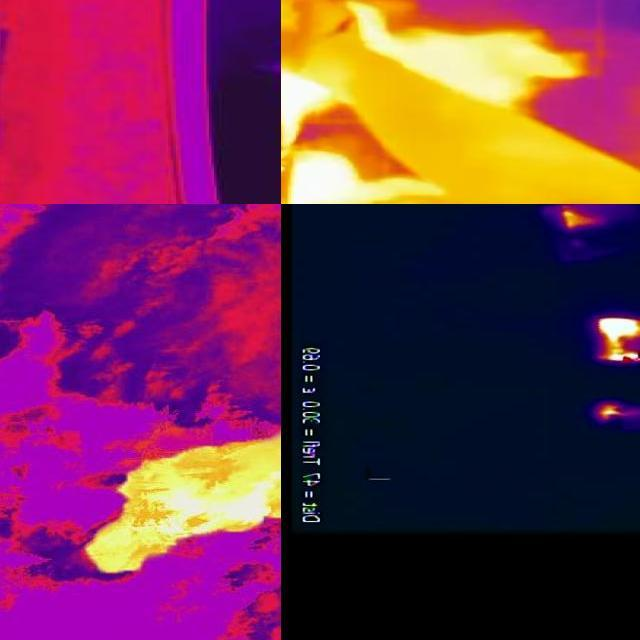fire: (81, 428, 282, 582), (347, 1, 547, 105), (281, 151, 369, 206), (282, 74, 329, 136), (594, 313, 640, 363), (562, 207, 600, 229), (595, 404, 640, 420)
